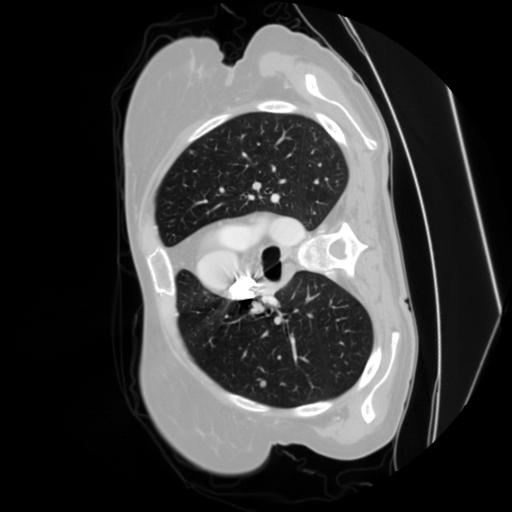nodule: (256, 378, 270, 392)
